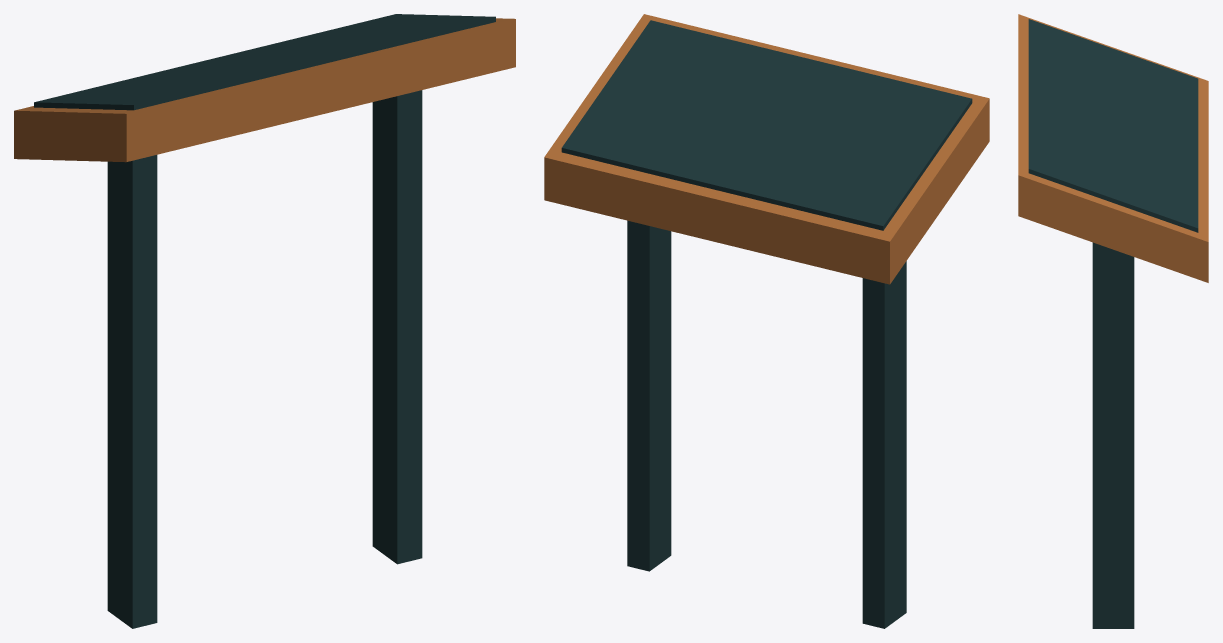
File: info_plaque_stand.fbx
3 views of the same model, side by side, from view 1: azimuth 30°, elevation 25°; view 2: azimuth 150°, elevation 25°; view 3: azimuth 270°, elevation 25° (orthographic). The views are drawn at different scales.
Visible parts, largest first — view 1: info_plaque_stand; view 2: info_plaque_stand; view 3: info_plaque_stand.
Part boxes in pixels (box(x1,y1,x2,y2)): info_plaque_stand: box(14, 14, 515, 628); info_plaque_stand: box(544, 14, 989, 628); info_plaque_stand: box(1018, 14, 1208, 628).
Size of the model in its own units: 0.8 by 1.1 by 0.4.
